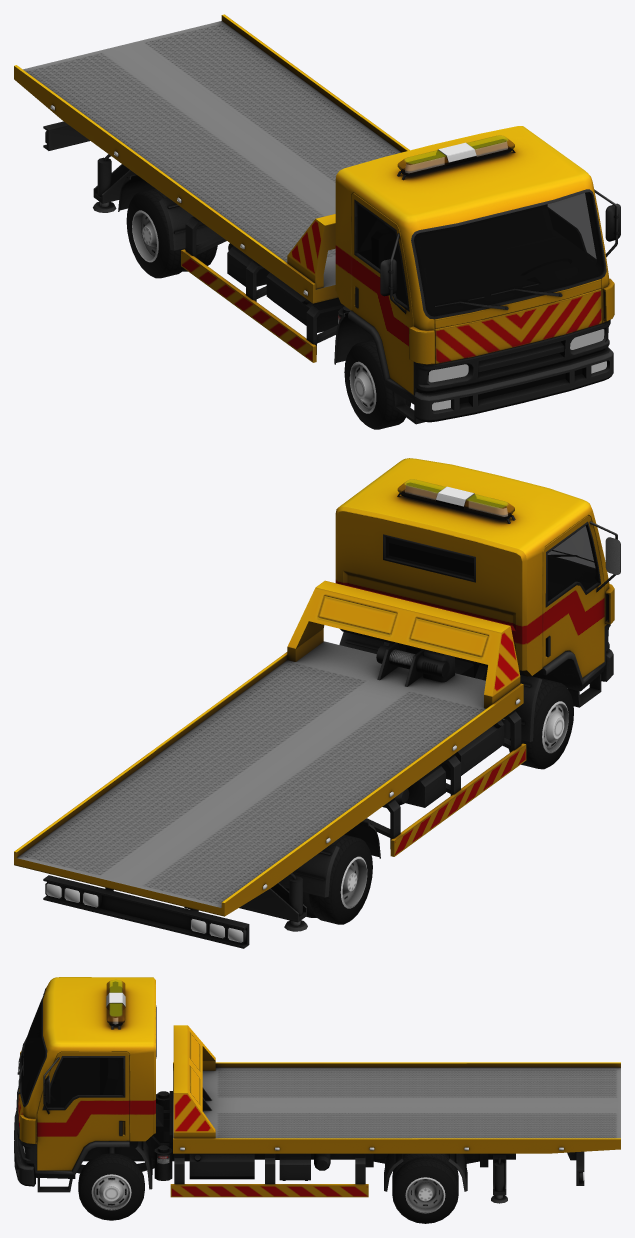
The model's file is towtruck.fbx.
3 views of the same model, one above another, from view 1: azimuth 30°, elevation 25°; view 2: azimuth 150°, elevation 25°; view 3: azimuth 270°, elevation 25° (orthographic). The views are drawn at different scales.
Parts seen in each view (by area): view 1: towtruck, towtruck_WheelRR, towtruck_WheelFR; view 2: towtruck, towtruck_WheelRR, towtruck_WheelFR; view 3: towtruck, towtruck_WheelRL, towtruck_WheelFL.
Boxes of the visible parts, box(x1,y1,x2,y2) form: towtruck: box(14, 14, 620, 424); towtruck_WheelRR: box(126, 188, 217, 278); towtruck_WheelFR: box(344, 339, 410, 429); towtruck: box(14, 458, 620, 948); towtruck_WheelRR: box(285, 834, 372, 924); towtruck_WheelFR: box(509, 678, 573, 769); towtruck: box(14, 977, 620, 1203); towtruck_WheelRL: box(392, 1153, 458, 1223); towtruck_WheelFL: box(78, 1153, 144, 1220).
Bounding box in the file's own units: 2484 × 2502 × 7255.
